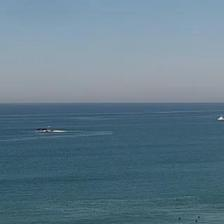surfer: (179, 217, 181, 220), (196, 219, 198, 222), (198, 216, 200, 218)
